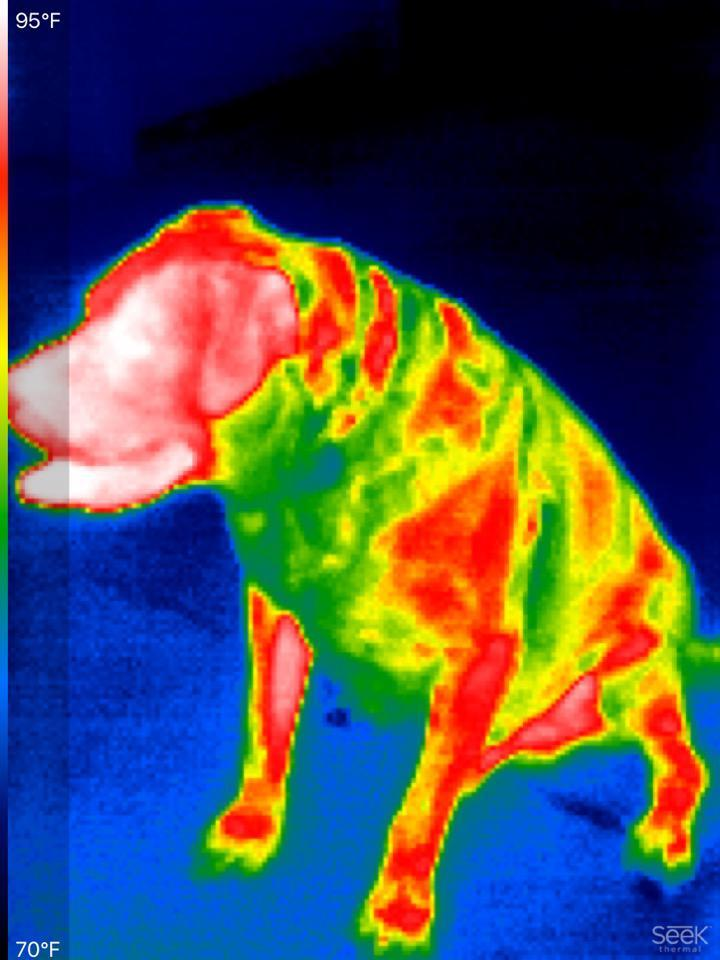dog: (9, 194, 716, 951)
